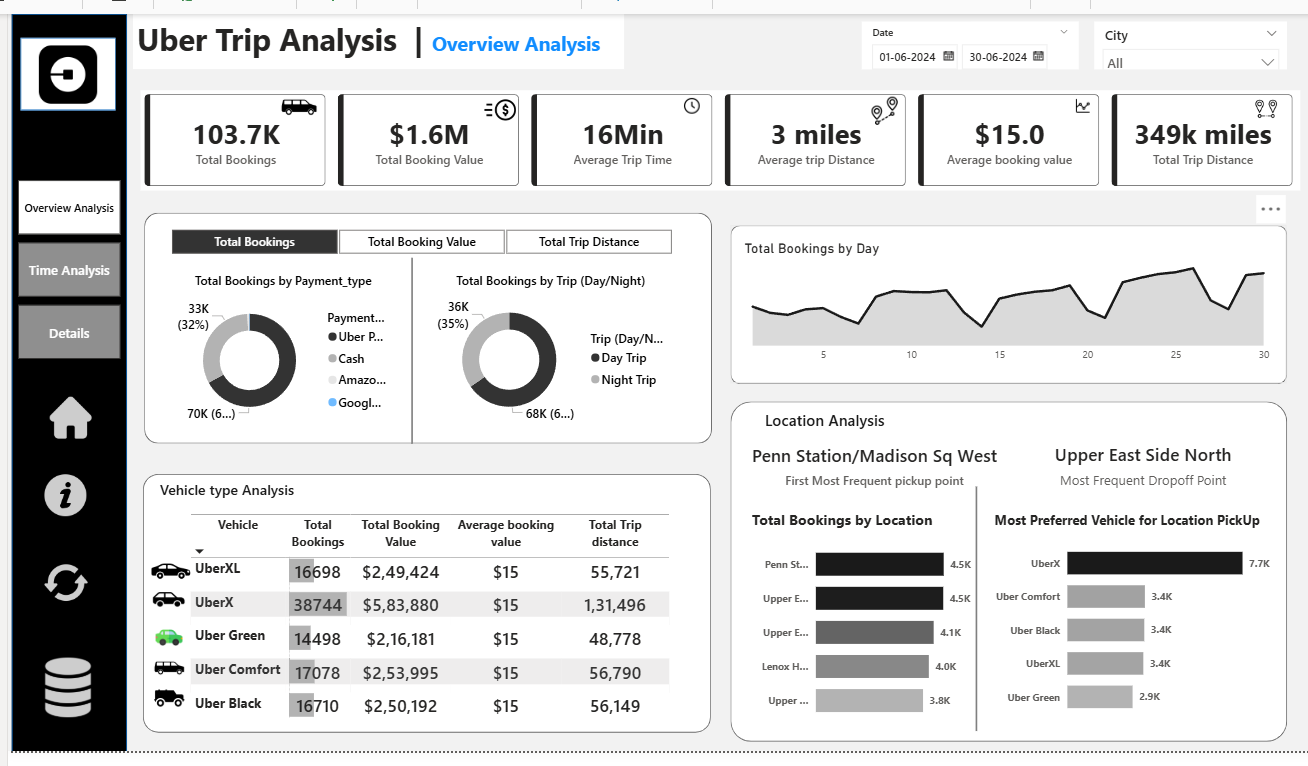

What the dashboard file says about the page in this screenshot:
{"tool":"powerbi","page":{"name":"Overview Analysis","canvas":[1600,900],"ordinal":0},"visuals":[{"type":"shape","box":[5.1,0,140.7,900.5],"z":0},{"type":"textbox","box":[152,0,599.4,66.9],"z":1000},{"type":"cardVisual","fields":{"Data":["Trip Details.Total Bookings","Trip Details.Total Booking Amount","Trip Details.Average Trip Time","Trip Details.Average trip Distance","Trip Details.Average booking amounrt","Trip Details.Total Trip Distance"]},"box":[162,93,1415.2,122],"z":2000},{"type":"image","box":[576.3,92.6,48,48],"z":3000},{"type":"image","box":[1042.9,96.1,54.9,44.6],"z":4000},{"type":"image","box":[799.3,97.8,70.3,29.2],"z":5000},{"type":"image","box":[1507.7,97.8,53.2,36],"z":6000},{"type":"image","box":[1284.7,97.8,54.9,29.2],"z":7000},{"type":"image","box":[322.5,85.8,66.9,56.6],"z":8000},{"type":"shape","box":[165.5,242.3,692.7,281.5],"z":9000},{"type":"slicer","fields":{"Values":["Parameter.Parameter"]},"box":[174,255.9,660.3,40.9],"z":10000},{"type":"donutChart","fields":{"Y":["Trip Details.Total Bookings"],"Category":["Trip Details.Payment_type"]},"box":[195.5,313.9,281.3,197.3],"z":11000},{"type":"donutChart","fields":{"Y":["Trip Details.Total Bookings"],"Category":["Trip Details.Trip Type (Day/Night)"]},"box":[507.7,313.9,308.7,195.5],"z":12000},{"type":"shape","box":[164.7,560.9,693,315.6],"z":13000},{"type":"pivotTable","fields":{"Rows":["Trip Details.Vehicle"],"Values":["Trip Details.Total Bookings","Trip Details.Total Booking Value","Trip Details.Average booking value","Trip Details.Total Trip distance measure"]},"box":[217.8,605.5,617.5,265.9],"z":14000},{"type":"image","box":[132.1,773.6,128.6,49.7],"z":15000},{"type":"image","box":[144.9,739.3,102.9,42.9],"z":16000},{"type":"image","box":[144.9,689.5,102.9,49.7],"z":17000},{"type":"image","box":[147.5,648.4,101.2,63.5],"z":18000},{"type":"image","box":[145.8,811.3,101.2,46.3],"z":19000},{"type":"card","fields":{"Values":["Trip Details.Title for grid"]},"box":[152.7,545.5,229.8,72],"z":20000},{"type":"shape","box":[881.6,257.3,679.2,193.8],"z":21000},{"type":"areaChart","fields":{"Category":["Calendar Table.Date.Variation.Date Hierarchy.Day"],"Y":["Trip Details.Total Bookings"]},"box":[893.7,276.2,653.5,157.8],"z":22000},{"type":"shape","box":[881.6,473.4,679.2,415.1],"z":23000},{"type":"card","fields":{"Values":["Min(Trip Details.Most Frequent pickup point)"]},"box":[894,511.8,327.6,75.1],"z":24000},{"type":"card","fields":{"Values":["Trip Details.Most Frequent Dropoff Point"]},"box":[1236.9,511.8,296.9,75.1],"z":25000},{"type":"barChart","fields":{"Category":["Location Table.Location"],"Y":["Trip Details.Total Bookings"]},"box":[902.5,605.7,279.8,269.6],"z":26000},{"type":"barChart","title":"Most Preferred Vehicle for Location PickUp","fields":{"Category":["Trip Details.Vehicle"],"Y":["CountNonNull(Trip Details.PULocationID)"]},"box":[1199.4,605.7,348,264.4],"z":27000},{"type":"shape","box":[431.6,296.9,122.8,226.9],"z":28000},{"type":"shape","box":[1114.1,576.7,136.5,298.6],"z":29000},{"type":"card","fields":{"Values":["Trip Details.Title for Location"]},"box":[882.1,452.1,230.3,92.1],"z":30000},{"type":"slicer","fields":{"Values":["Location Table.City"]},"box":[1325.7,8.5,235.4,58],"z":31000},{"type":"slicer","fields":{"Values":["Calendar Table.Date"]},"box":[1042.4,8.5,264.4,58],"z":32000},{"type":"shape","box":[15.3,29,116.2,88.7],"z":33000},{"type":"image","box":[15.3,33.6,116.2,81],"z":34000},{"type":"pageNavigator","box":[12.2,203.3,125.3,220.1],"z":35000},{"type":"image","box":[40,462.6,73,60.9],"z":36000},{"type":"image","box":[39.7,554.9,61.1,64.2],"z":37000},{"type":"image","box":[39.7,648.1,62.7,91.7],"z":38000},{"type":"image","box":[32.1,773.4,82.5,96.3],"z":39000}]}

Visuals, with their boxes on the page's 1600x900 design canvas (x1, y1, x2, y2). These are canvas units, not pixel positions in the 1308x766 screenshot, which may show the page scaled, cropped or inside an application window:
shape: bbox=(5, 0, 146, 900)
textbox: bbox=(152, 0, 751, 67)
cardVisual - Trip Details.Total Bookings x Trip Details.Total Booking Amount: bbox=(162, 93, 1577, 215)
image: bbox=(576, 93, 624, 141)
image: bbox=(1043, 96, 1098, 141)
image: bbox=(799, 98, 870, 127)
image: bbox=(1508, 98, 1561, 134)
image: bbox=(1285, 98, 1340, 127)
image: bbox=(322, 86, 389, 142)
shape: bbox=(166, 242, 858, 524)
slicer - Parameter.Parameter: bbox=(174, 256, 834, 297)
donutChart - Trip Details.Total Bookings x Trip Details.Payment_type: bbox=(196, 314, 477, 511)
donutChart - Trip Details.Total Bookings x Trip Details.Trip Type (Day/Night): bbox=(508, 314, 816, 509)
shape: bbox=(165, 561, 858, 876)
pivotTable - Trip Details.Vehicle x Trip Details.Total Bookings: bbox=(218, 606, 835, 871)
image: bbox=(132, 774, 261, 823)
image: bbox=(145, 739, 248, 782)
image: bbox=(145, 690, 248, 739)
image: bbox=(148, 648, 249, 712)
image: bbox=(146, 811, 247, 858)
card - Trip Details.Title for grid: bbox=(153, 546, 382, 618)
shape: bbox=(882, 257, 1561, 451)
areaChart - Calendar Table.Date.Variation.Date Hierarchy.Day x Trip Details.Total Bookings: bbox=(894, 276, 1547, 434)
shape: bbox=(882, 473, 1561, 888)
card - Min(Trip Details.Most Frequent pickup point): bbox=(894, 512, 1222, 587)
card - Trip Details.Most Frequent Dropoff Point: bbox=(1237, 512, 1534, 587)
barChart - Location Table.Location x Trip Details.Total Bookings: bbox=(902, 606, 1182, 875)
"Most Preferred Vehicle for Location PickUp" barChart: bbox=(1199, 606, 1547, 870)
shape: bbox=(432, 297, 554, 524)
shape: bbox=(1114, 577, 1251, 875)
card - Trip Details.Title for Location: bbox=(882, 452, 1112, 544)
slicer - Location Table.City: bbox=(1326, 8, 1561, 66)
slicer - Calendar Table.Date: bbox=(1042, 8, 1307, 66)
shape: bbox=(15, 29, 132, 118)
image: bbox=(15, 34, 132, 115)
pageNavigator: bbox=(12, 203, 138, 423)
image: bbox=(40, 463, 113, 524)
image: bbox=(40, 555, 101, 619)
image: bbox=(40, 648, 102, 740)
image: bbox=(32, 773, 115, 870)
